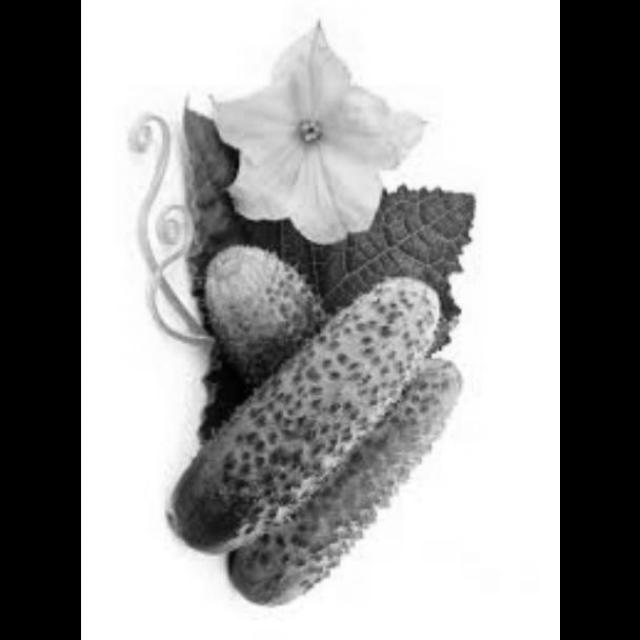cucumber: (158, 270, 450, 564), (222, 342, 473, 618), (197, 236, 346, 379)
